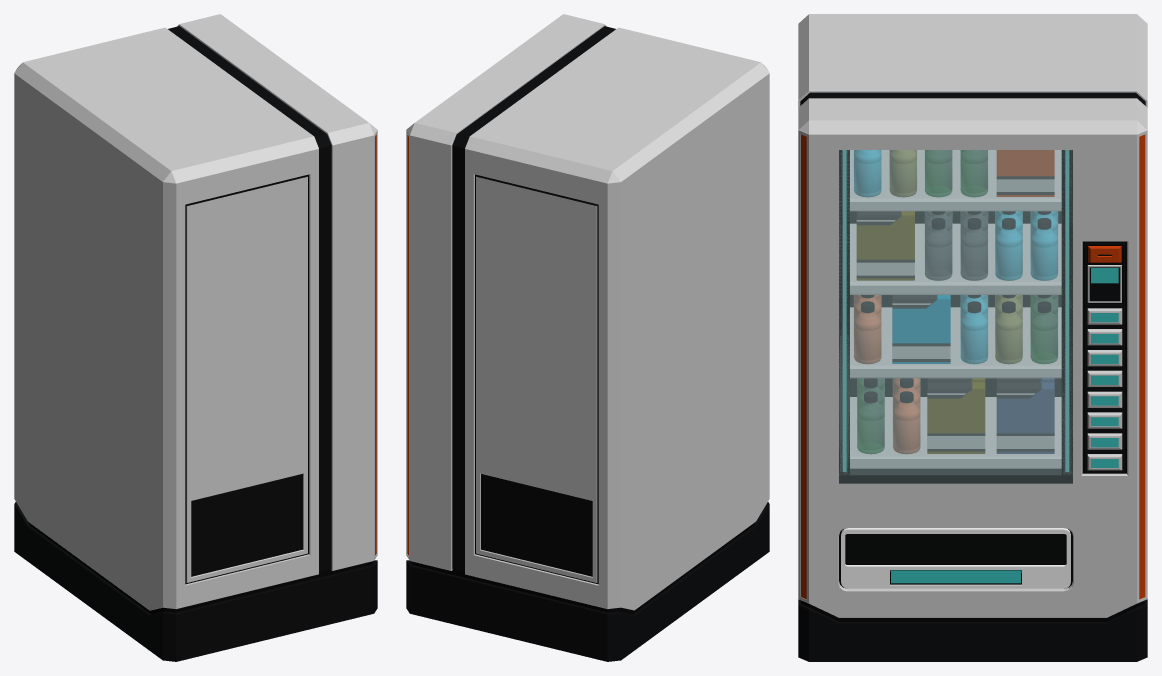
File: SM_Vending_Machine.obj
3 views of the same model, side by side, from view 1: azimuth 30°, elevation 25°; view 2: azimuth 150°, elevation 25°; view 3: azimuth 270°, elevation 25° (orthographic). The views are drawn at different scales.
Parts seen in each view (by area): view 1: SM_Vending_Machine; view 2: SM_Vending_Machine; view 3: SM_Vending_Machine.
Boxes of the visible parts, box(x1,y1,x2,y2) form: SM_Vending_Machine: box(14, 14, 377, 661); SM_Vending_Machine: box(406, 14, 769, 661); SM_Vending_Machine: box(798, 14, 1147, 661).
Bounding box in the file's own units: 0.9066 × 1.95 × 1.15.
